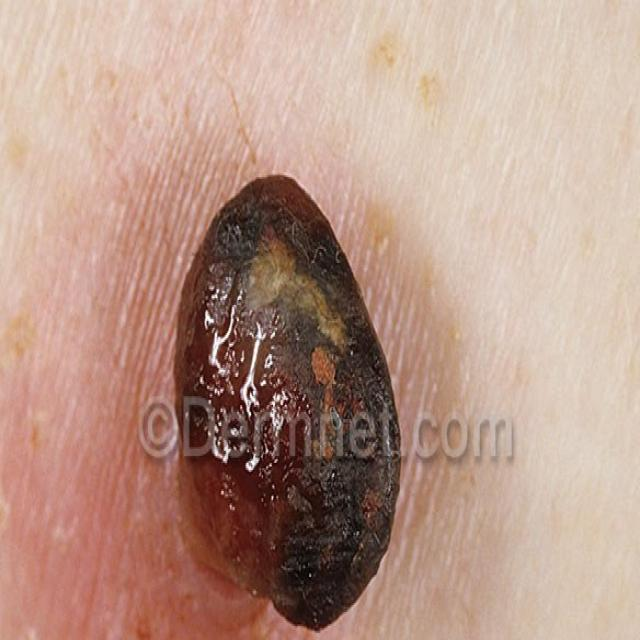Vascular Tumors: (152, 144, 439, 640)
